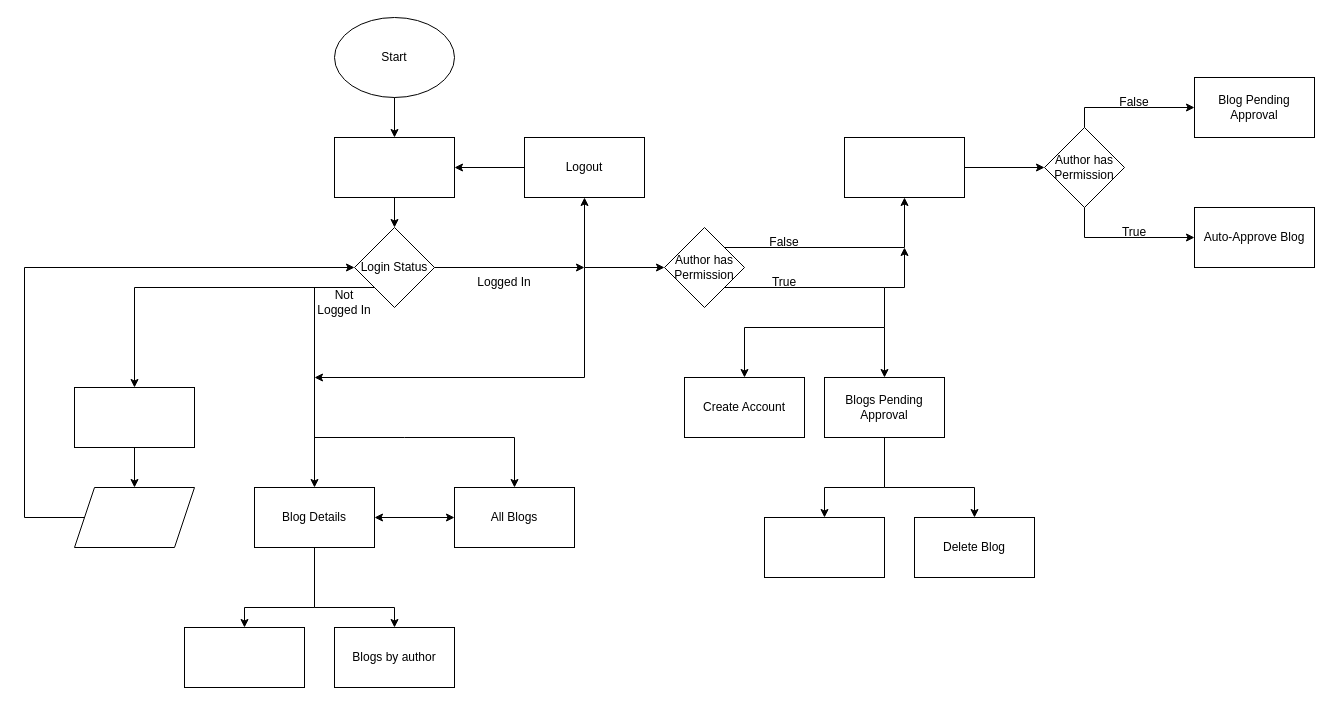
The diagram is 1332 pixels wide and 705 high, and some of its shapes have lost their labels. Here are the shapes that lost their labels. From the top down, the box of each, then its label:
(334, 136, 454, 198): Display Index
(844, 136, 964, 198): Write Blog
(74, 386, 194, 448): Login
(74, 486, 194, 548): Enter Login
(764, 516, 884, 578): Approve Blog
(184, 626, 304, 688): Blogs with tag
